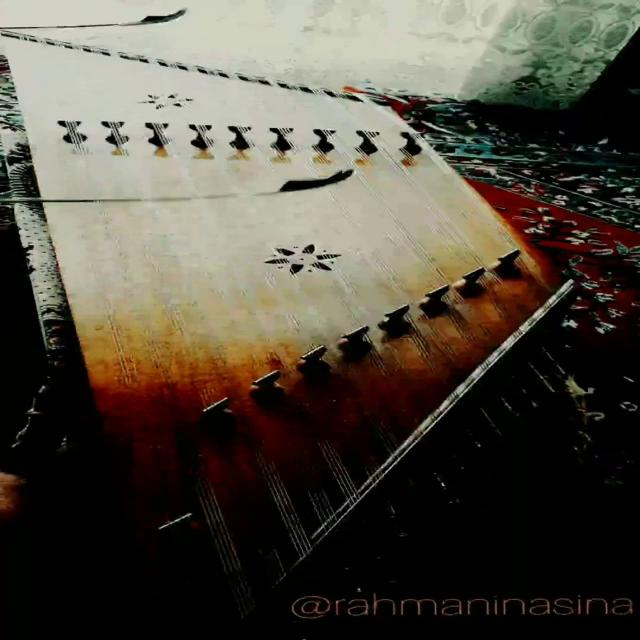Santur: (7, 23, 600, 640)
